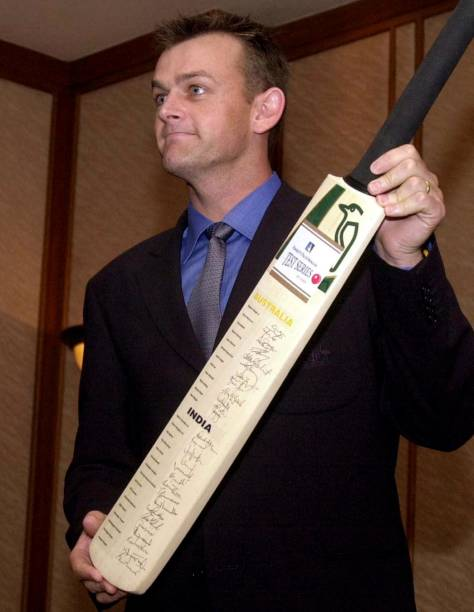bottom left: (73, 528, 109, 571)
bottom right: (126, 571, 162, 604)
top left: (307, 155, 343, 195)
top right: (370, 195, 397, 230)
